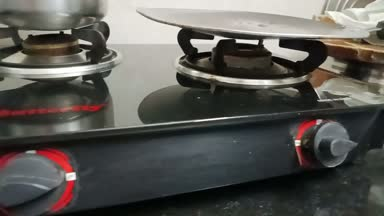flame_gas_off: (182, 34, 362, 169), (0, 28, 101, 216)
